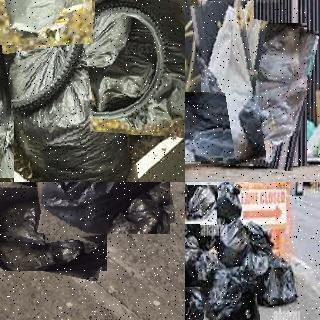Garbage: (7, 23, 134, 182), (92, 0, 185, 136), (230, 21, 313, 169), (195, 0, 260, 165), (0, 185, 110, 275), (34, 182, 173, 238), (0, 0, 92, 45), (199, 267, 259, 320), (252, 254, 303, 306), (185, 92, 223, 161), (217, 217, 254, 266), (185, 184, 217, 224), (214, 182, 243, 220), (185, 285, 213, 320)
